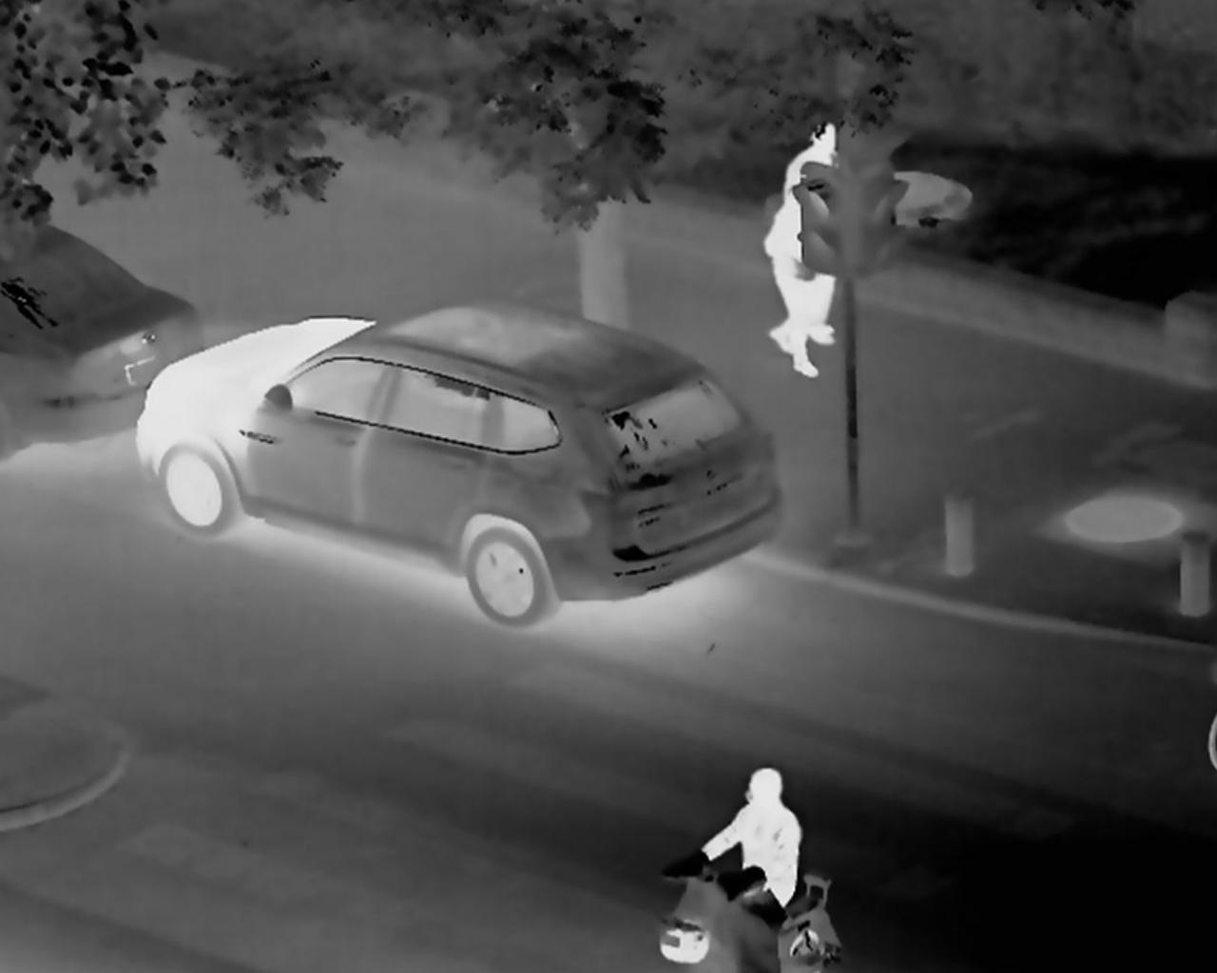person: (770, 135, 853, 391), (708, 763, 821, 925)
